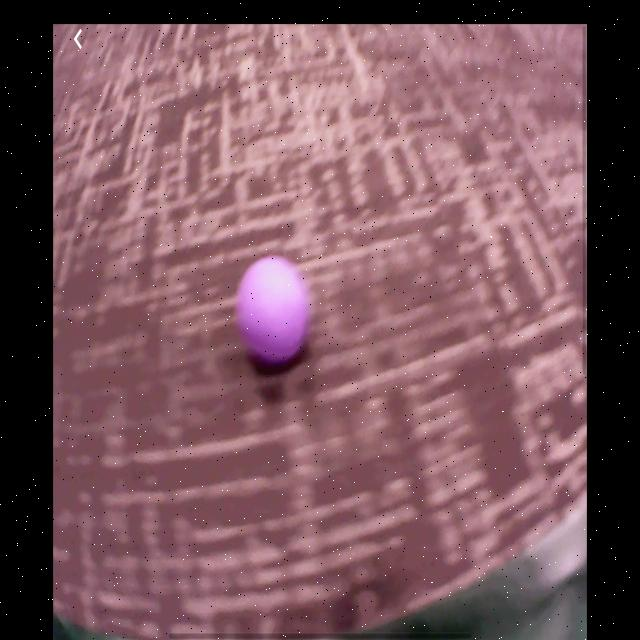ball: (240, 258, 307, 360)
